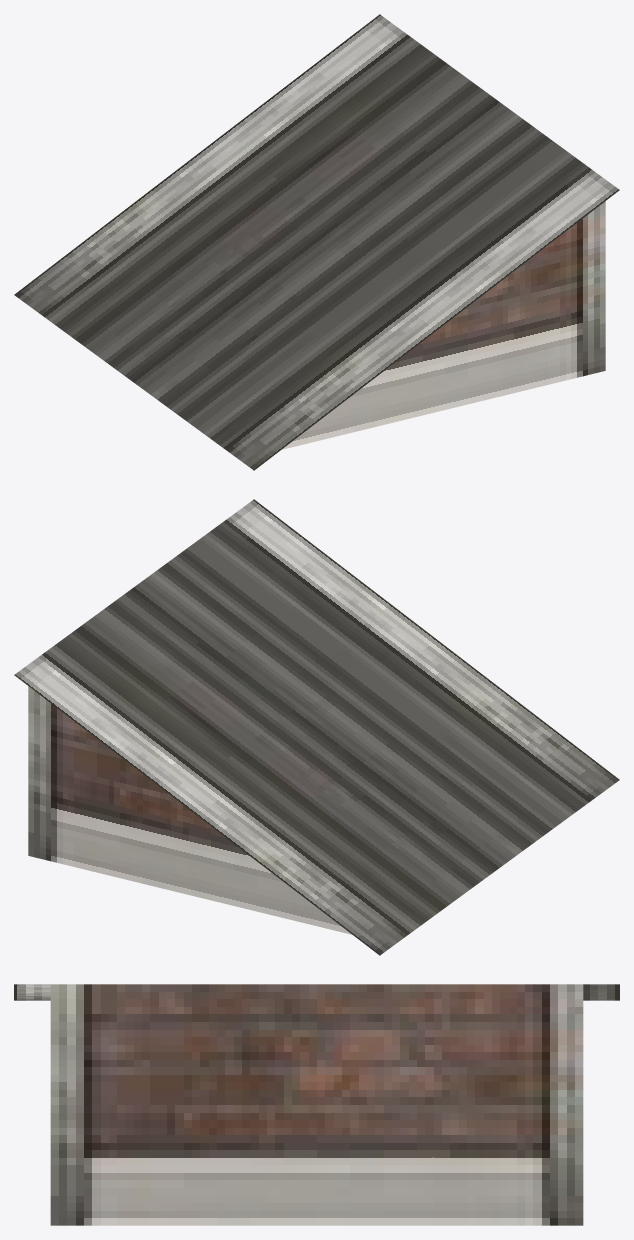
Rendered from kenney-retro-urban-wall-a-roof-slant-detailed.glb.
The picture shows the model from 3 angles, top to bottom: view 1: azimuth 30°, elevation 25°; view 2: azimuth 150°, elevation 25°; view 3: azimuth 270°, elevation 25°; orthographic projection. The views are drawn at different scales.
Parts seen in each view (by area): view 1: wall-a-roof-slant-detailed; view 2: wall-a-roof-slant-detailed; view 3: wall-a-roof-slant-detailed.
Part boxes in pixels (x1,y1,x2,y2): wall-a-roof-slant-detailed: (14,14,619,470); wall-a-roof-slant-detailed: (14,499,619,955); wall-a-roof-slant-detailed: (14,984,619,1225).
Bounding box in the file's own units: 1 × 0.5001 × 1.14.
Materials: 3 (3 with a texture image).
